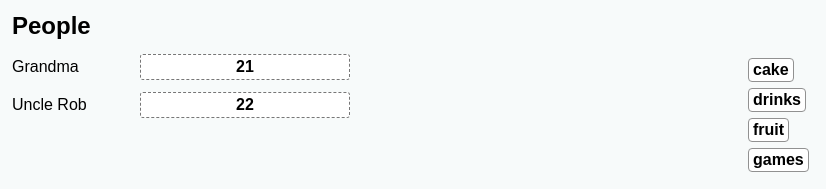
Scenario: DragDropMatch (A2 Listening Part 5) › places a card in a slot: pick the card, then the slot
The width and height of the screenshot is (826, 189).
Click the button "fruit": {"x": 769, "y": 130} [748,118,789,142]
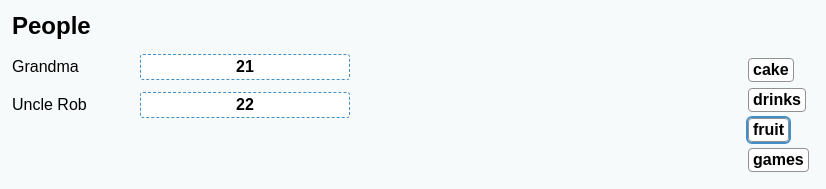
Click the button named "Question 21, Grandma, empty": {"x": 245, "y": 67} [141,55,349,79]
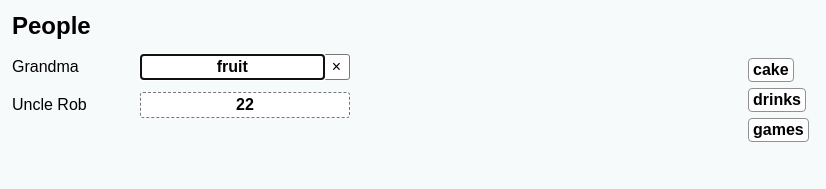
Expected: the button with aria-label "Question 21, Grandma, fruit" is shown, [141,55,324,79]
